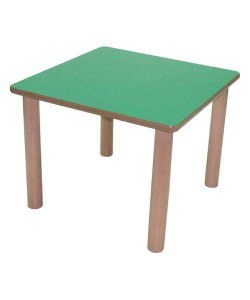m01: (10, 46, 240, 252)
